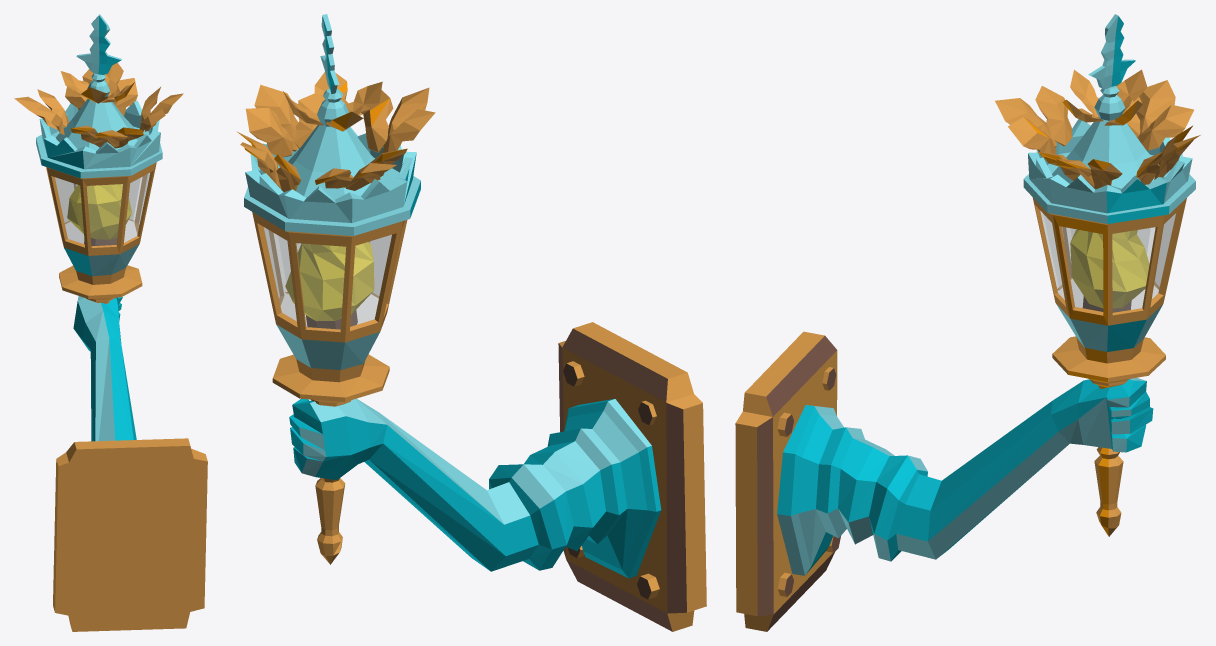
Rendered from fortnum-mason-lantern.glb.
3 views of the same model, side by side, from view 1: azimuth 30°, elevation 25°; view 2: azimuth 150°, elevation 25°; view 3: azimuth 270°, elevation 25° (orthographic). The views are drawn at different scales.
Visible parts, largest first — view 1: group2043884465; view 2: group2043884465; view 3: group2043884465.
Part boxes in pixels (bbox=[...]): group2043884465: bbox=[14, 14, 207, 631]; group2043884465: bbox=[237, 14, 706, 631]; group2043884465: bbox=[735, 14, 1200, 631].
Bounding box in the file's own units: 0.728 × 1.53 × 0.9948.
